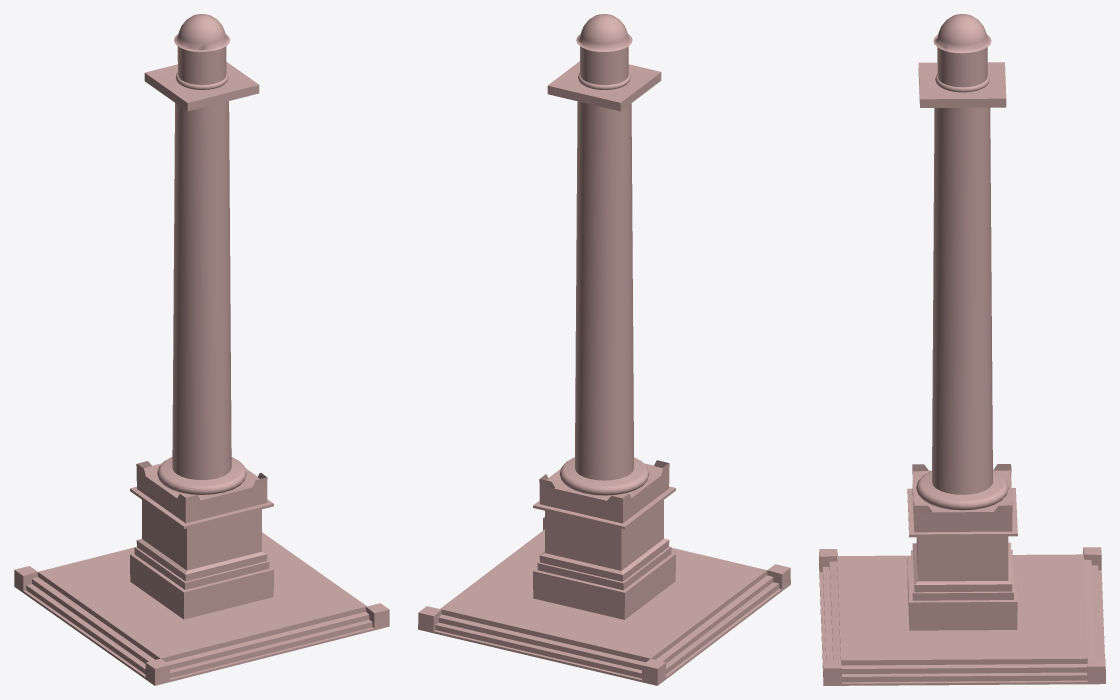
File: kolona.dae
The picture shows the model from 3 angles, left to right: view 1: azimuth 30°, elevation 25°; view 2: azimuth 150°, elevation 25°; view 3: azimuth 270°, elevation 25°; orthographic projection. The views are drawn at different scales.
Visible parts, largest first — view 1: Mesh1_Group1_Model; view 2: Mesh1_Group1_Model; view 3: Mesh1_Group1_Model.
Boxes of the visible parts, <box> form: Mesh1_Group1_Model: <box>14,14,389,685</box>; Mesh1_Group1_Model: <box>418,14,790,685</box>; Mesh1_Group1_Model: <box>819,14,1105,685</box>.
Size of the model in its own units: 1.68 by 1.68 by 3.95.
